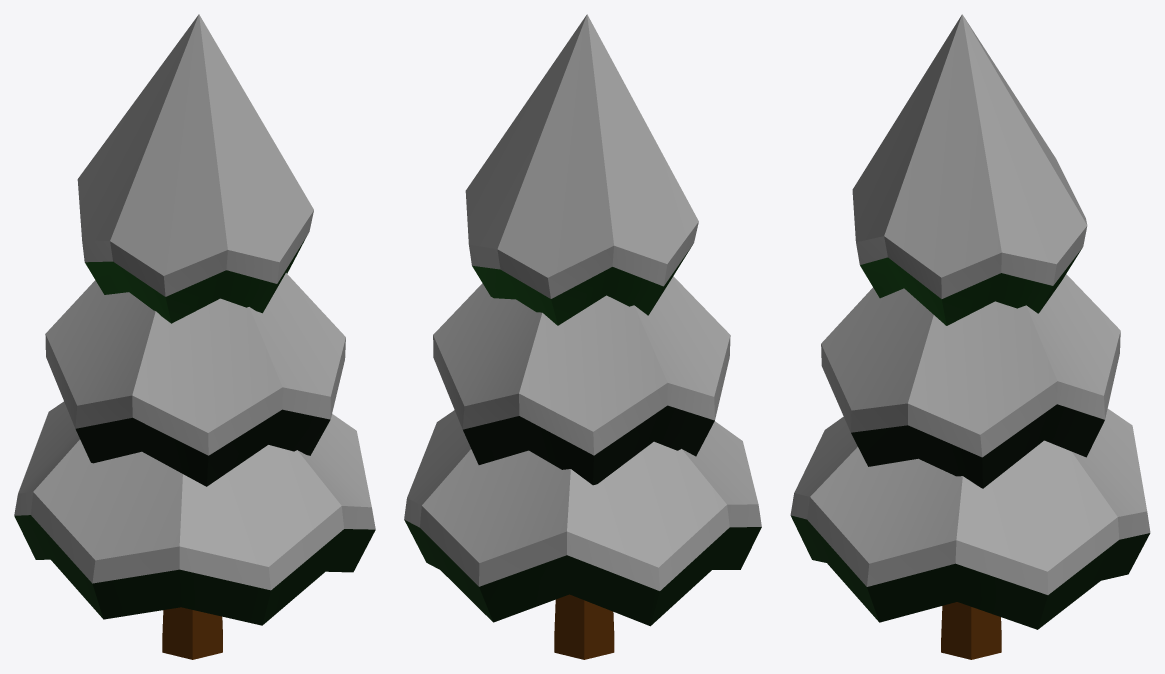
Rendered from SM__Coniferous__Tree__Snow__Growth__1.fbx.
3 renders of one model, left to right at view 1: azimuth 30°, elevation 25°; view 2: azimuth 150°, elevation 25°; view 3: azimuth 270°, elevation 25°, orthographic.
Visible parts, largest first — view 1: groupdelete6; view 2: groupdelete6; view 3: groupdelete6.
Part boxes in pixels (left/top/right/bottom): groupdelete6: left=14, top=14, right=375, bottom=659; groupdelete6: left=404, top=14, right=761, bottom=659; groupdelete6: left=790, top=14, right=1150, bottom=659.
Size of the model in its own units: 2.49 by 4.82 by 2.49.
